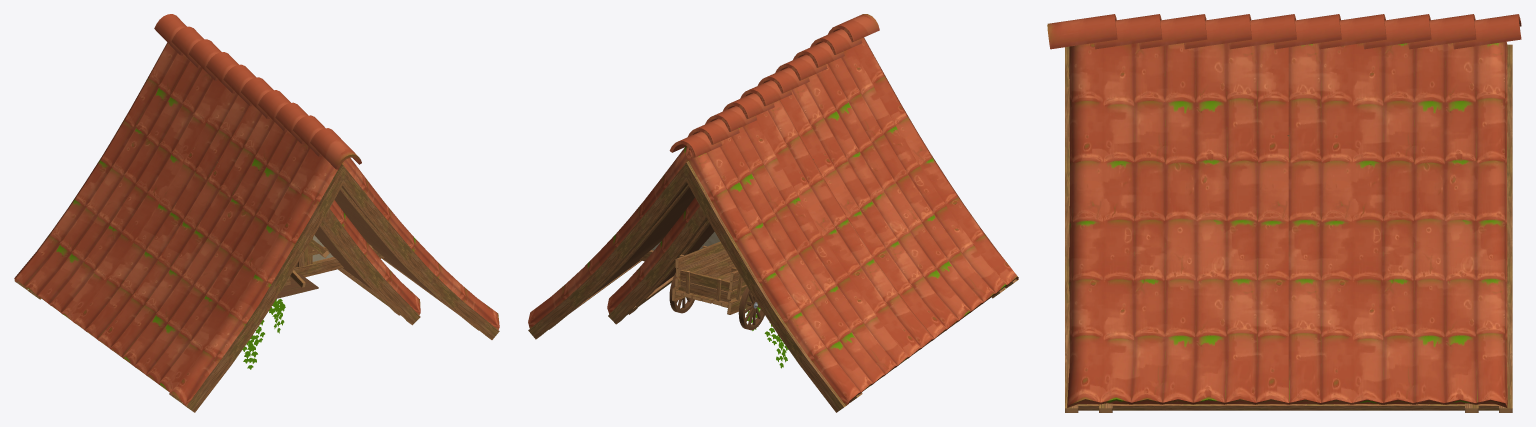
Rendered from village-kit.glb.
The picture shows the model from 3 angles, left to right: view 1: azimuth 30°, elevation 25°; view 2: azimuth 150°, elevation 25°; view 3: azimuth 270°, elevation 25°; orthographic projection. The views are drawn at different scales.
Parts seen in each view (by area): view 1: Roof_RoundTiles_6x6, Roof_RoundTiles_4x4, Roof_Front_Brick6, Roof_Front_Brick4, Prop_Vine1, Floor_WoodDark; view 2: Roof_RoundTiles_6x6, Prop_Wagon, Roof_RoundTiles_4x4; view 3: Roof_RoundTiles_6x6.
Boxes of the visible parts, x1,y1,x2,y2 form: Roof_RoundTiles_6x6: [14, 14, 499, 412]; Roof_RoundTiles_4x4: [314, 200, 420, 325]; Roof_Front_Brick6: [294, 235, 384, 277]; Roof_Front_Brick4: [294, 236, 343, 276]; Prop_Vine1: [242, 298, 285, 369]; Floor_WoodDark: [276, 273, 318, 298]; Roof_RoundTiles_6x6: [528, 14, 1018, 412]; Prop_Wagon: [669, 241, 764, 330]; Roof_RoundTiles_4x4: [607, 197, 714, 324]; Roof_RoundTiles_6x6: [1047, 14, 1521, 412].
Bounding box in the file's own units: 8.25 × 7.01 × 8.03.
9 materials, 8 textured.
